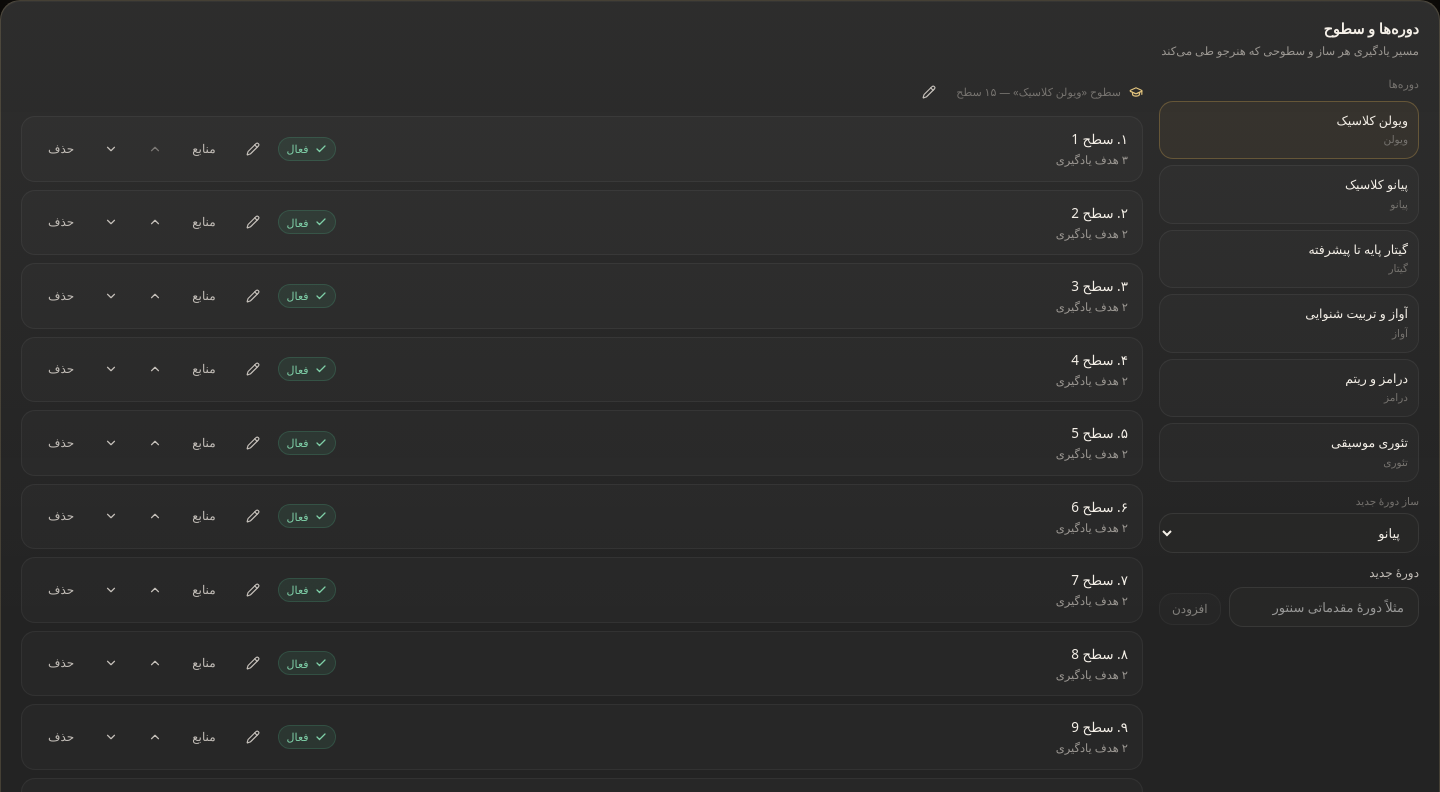
Test: M3 assignment flow — through LearningPanel › closes the assignment surface when the program changes, instead of keeping the previous program's level armed
This screenshot has width=1440, height=792.
Click the button "منابع" in the row of "۳ هدف یادگیری" at (204, 149), box [180,133,228,165]
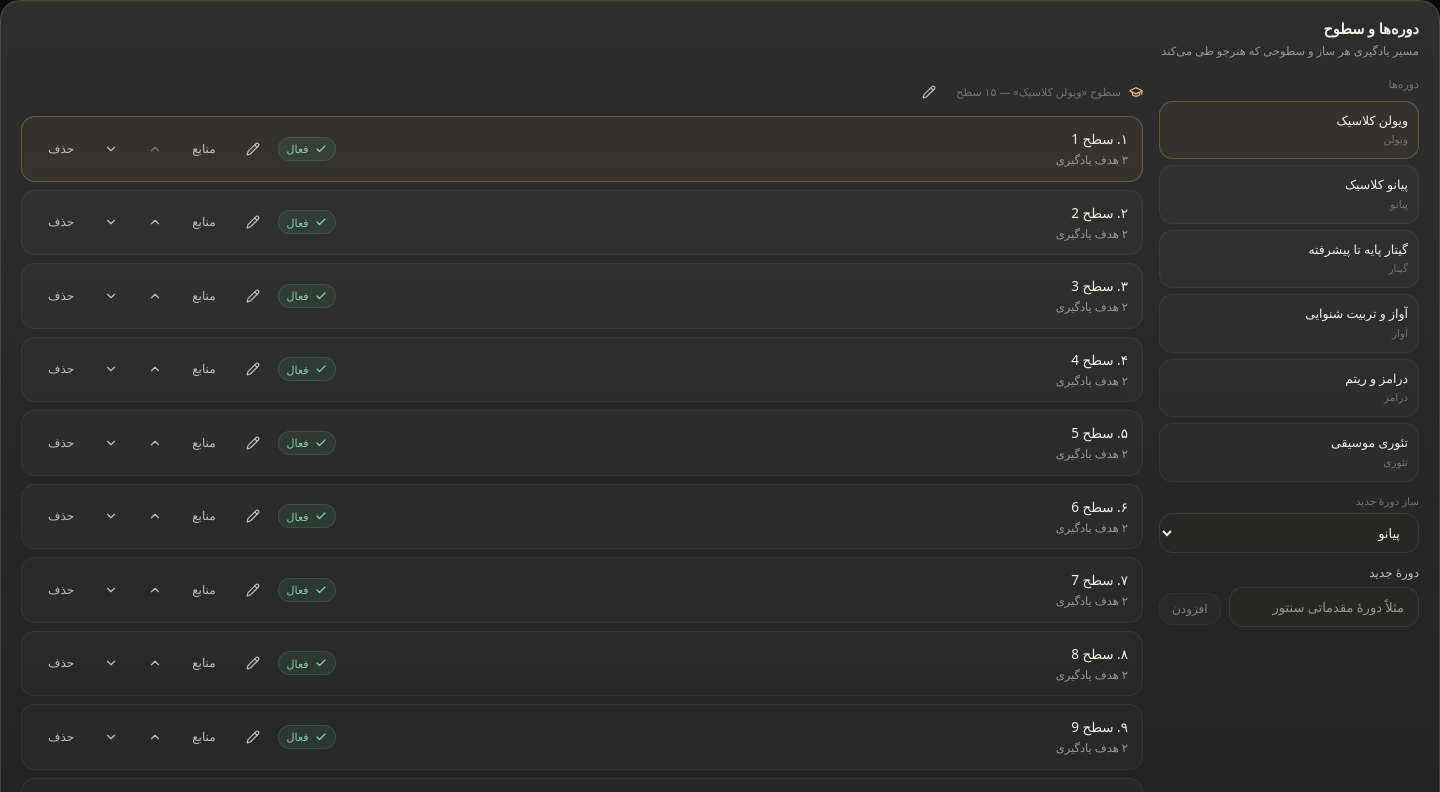
Click the button "پیانو کلاسیک پیانو" at (1376, 185), box [1159,165,1419,224]
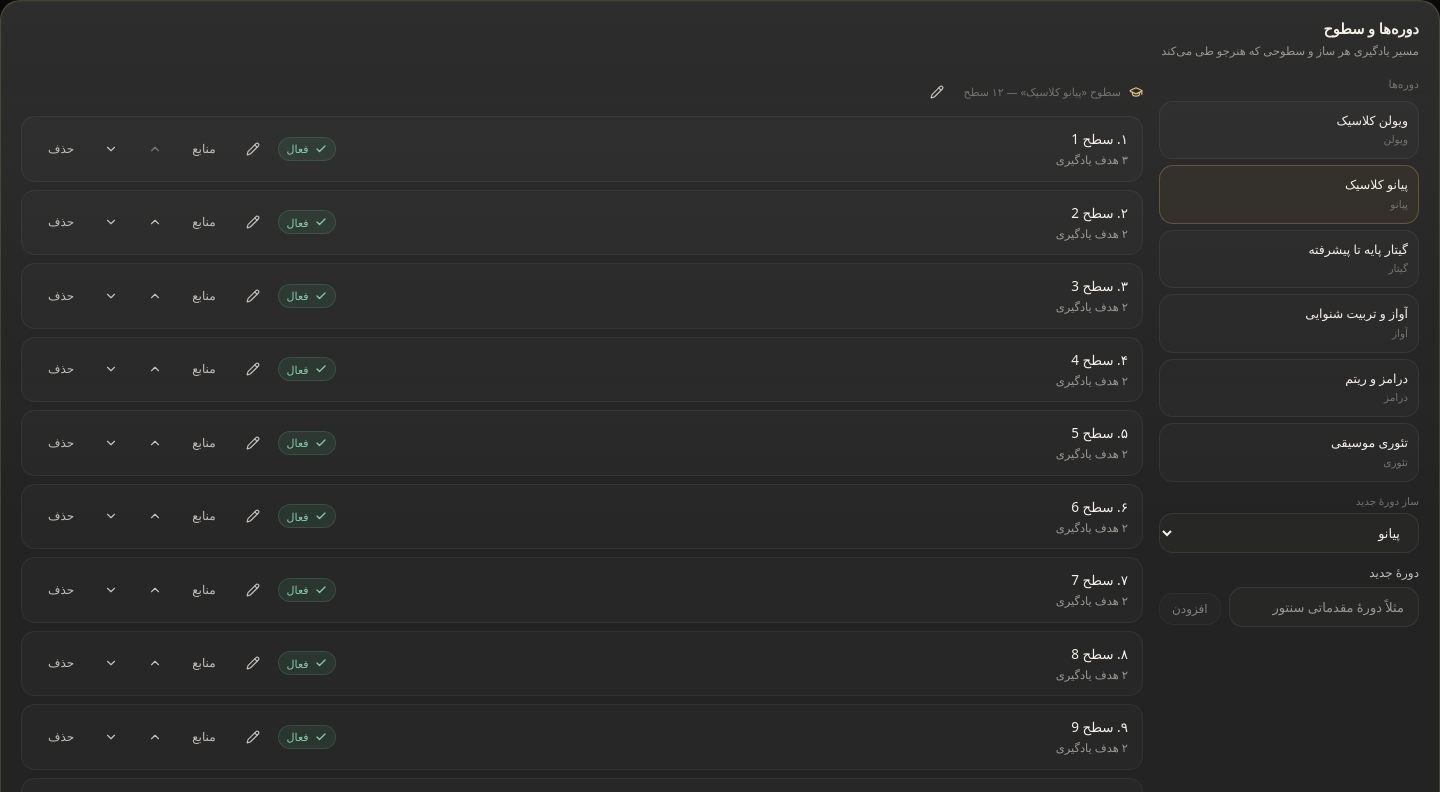
Expected: the heading "سطوح «پیانو کلاسیک» — ۱۲ سطح" is shown, [964,84,1121,100]
Click the button "ویولن کلاسیک ویولن" at (1372, 120), box [1159,101,1419,159]
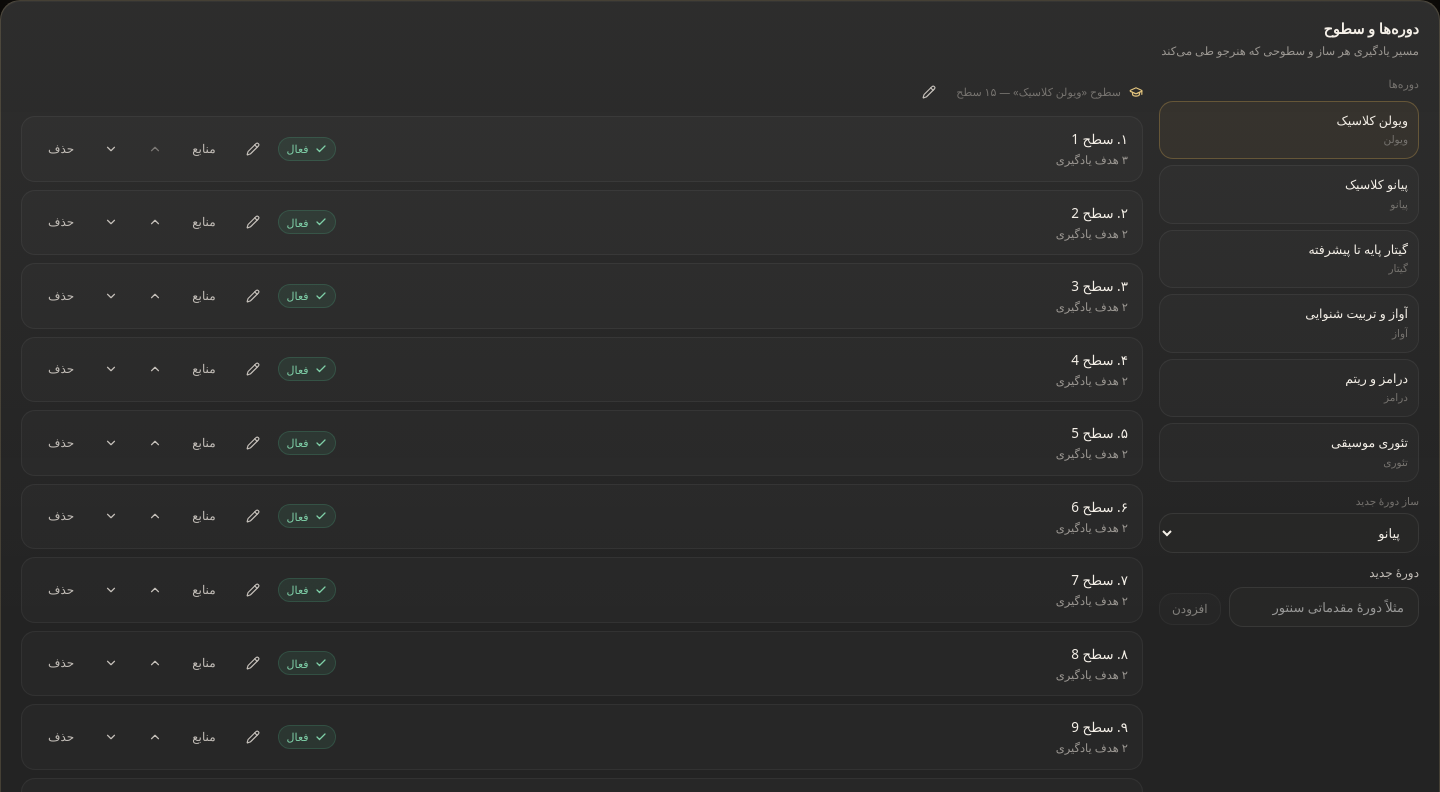
Expected: the heading "سطوح «ویولن کلاسیک» — ۱۵ سطح" is shown, [956,84,1121,100]
